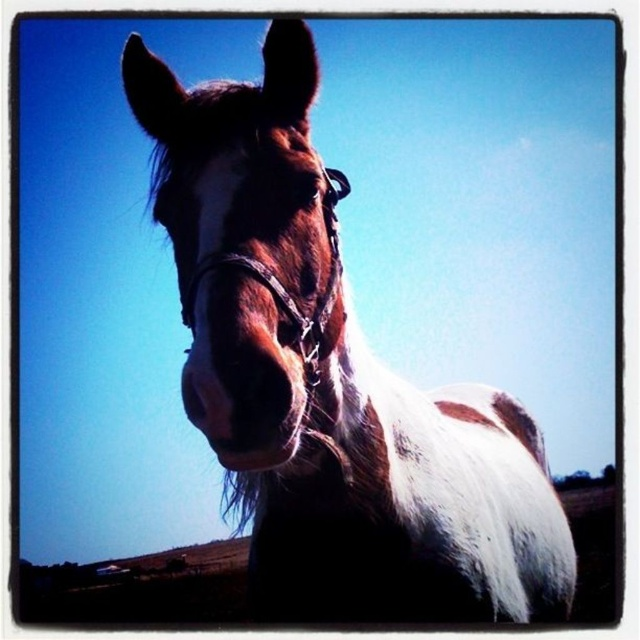Horse: (113, 22, 577, 605)
